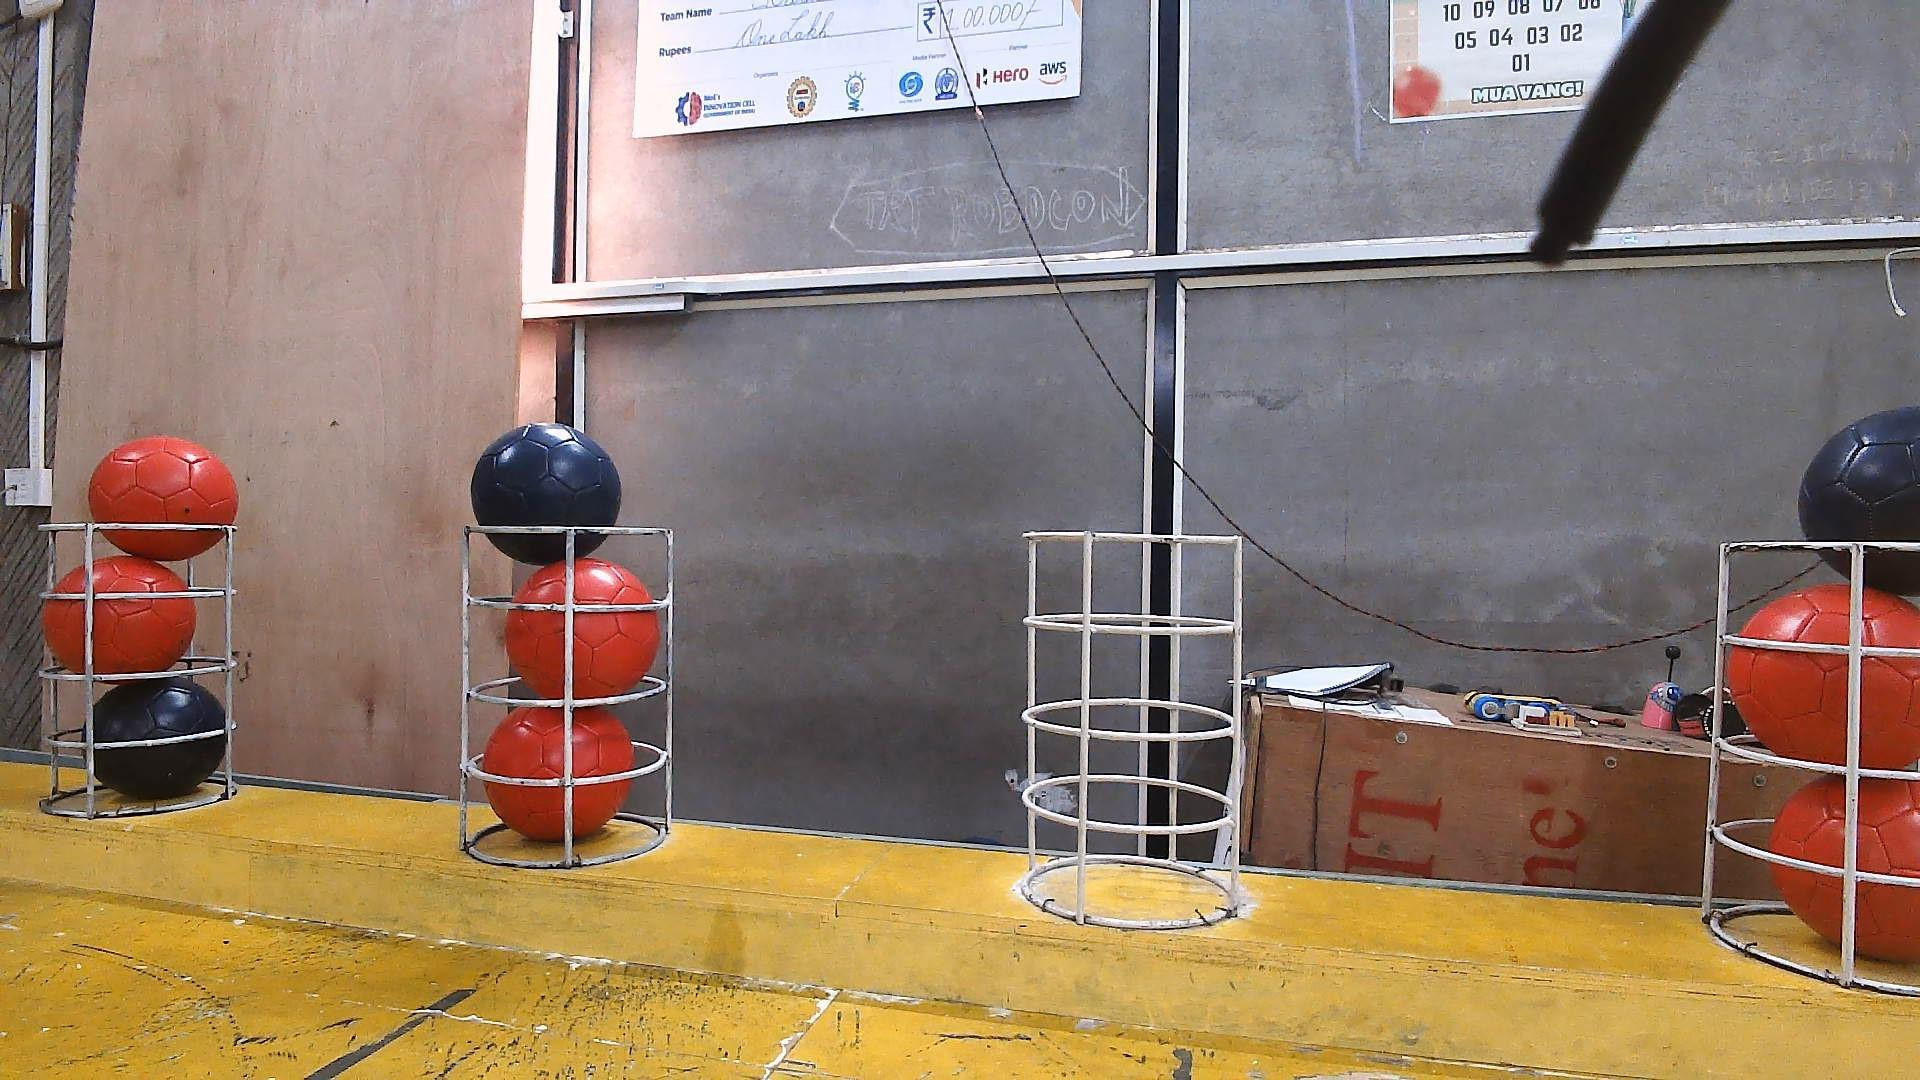dhoka: (1796, 405, 1920, 596), (468, 423, 622, 566), (90, 679, 228, 799)
laale: (1725, 582, 1920, 773), (1770, 777, 1920, 964), (502, 559, 659, 702), (480, 705, 634, 840), (86, 435, 240, 563), (41, 555, 195, 675)
